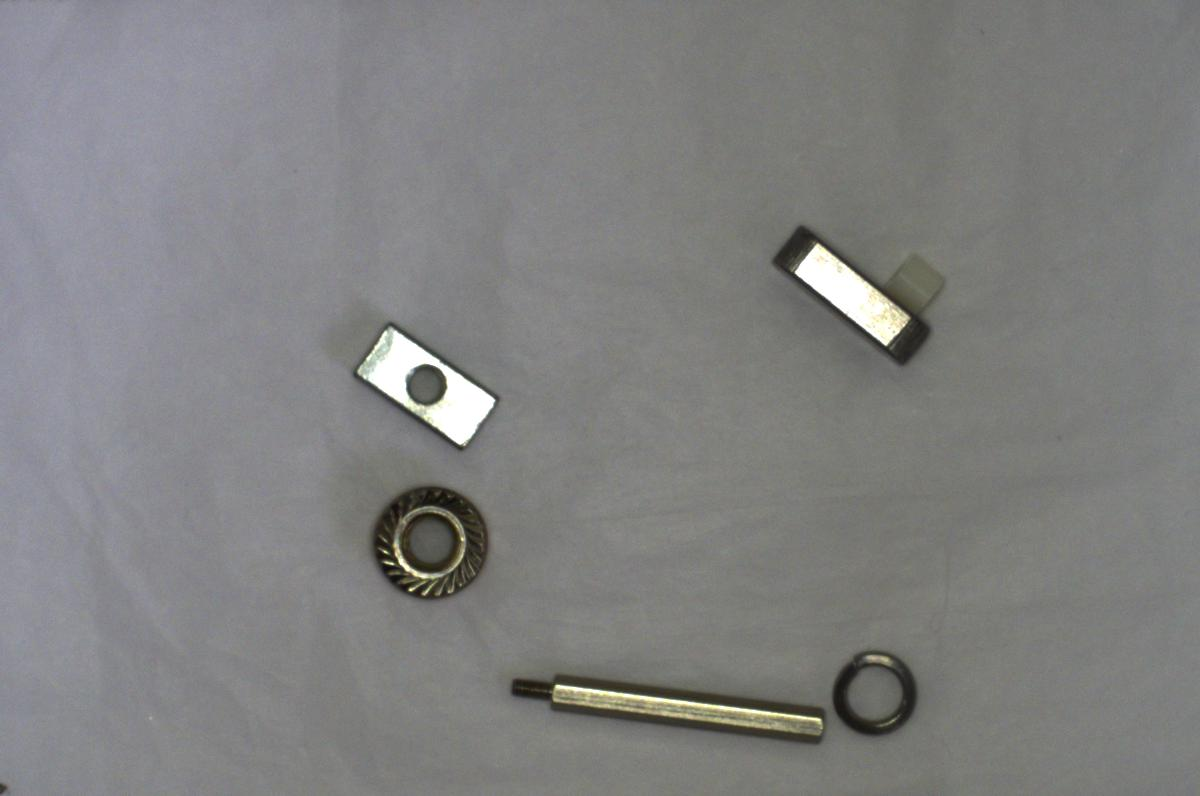Flange nut: (364, 476, 493, 610)
Hexagonal steel column: (495, 665, 828, 754)
Keybar: (768, 218, 928, 356)
Plastic cushion pillar: (878, 245, 950, 319)
Rectangular nut: (352, 326, 500, 453)
Spring washer: (830, 642, 922, 735)
